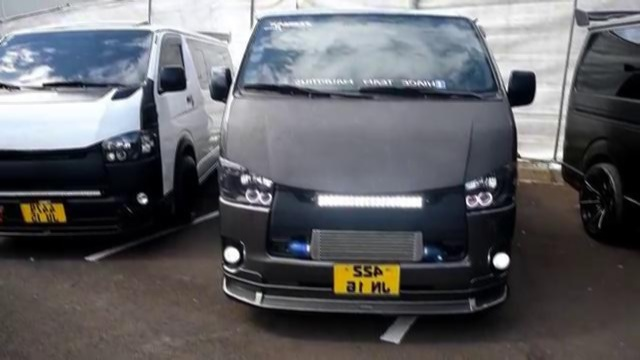van: (211, 10, 529, 320), (0, 32, 233, 263)
